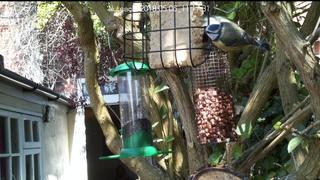blue tit: (203, 22, 270, 52)
